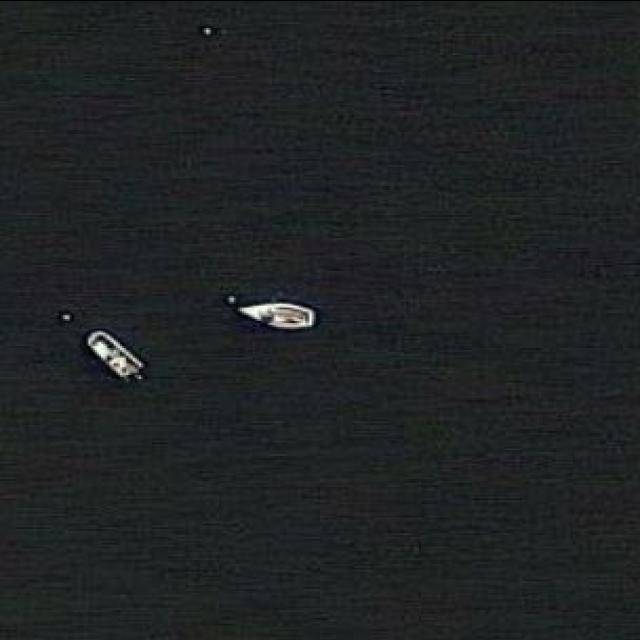ship: (80, 328, 143, 383), (230, 295, 318, 333)
